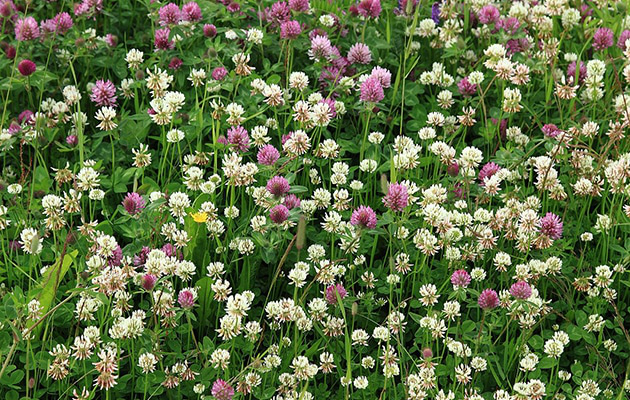clover: (5, 43, 620, 399)
